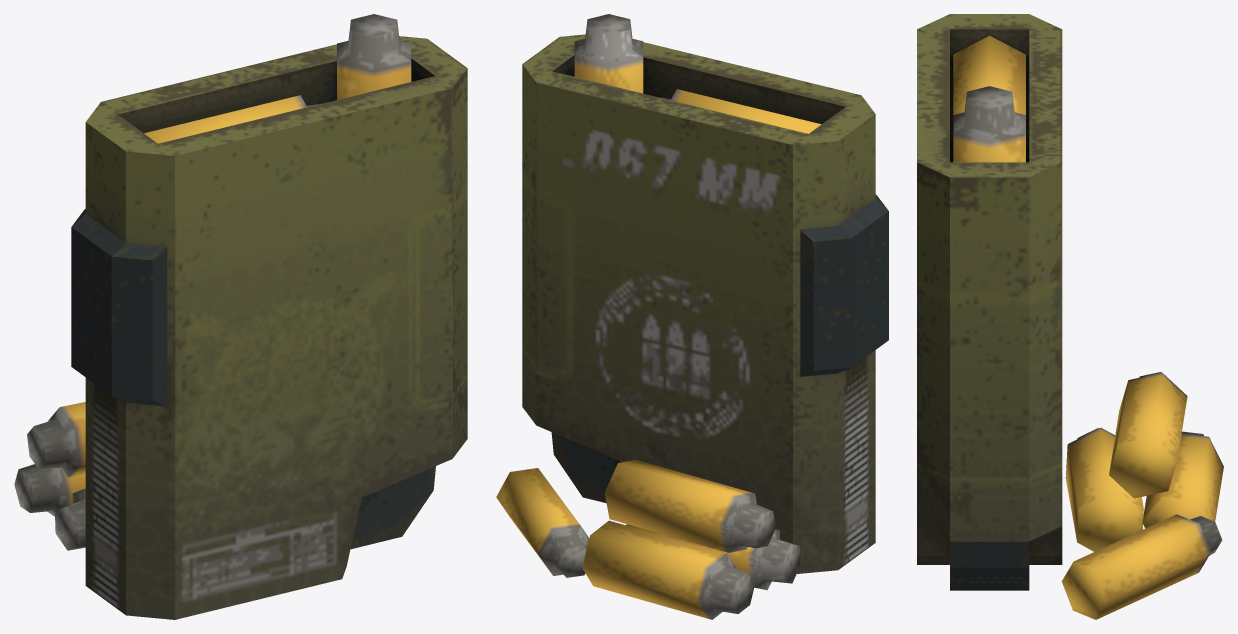
File: HANDGUN_AMMO.fbx
3 views of the same model, side by side, from view 1: azimuth 30°, elevation 25°; view 2: azimuth 150°, elevation 25°; view 3: azimuth 270°, elevation 25° (orthographic). The views are drawn at different scales.
Visible parts, largest first — view 1: SM_AMMO_01; view 2: SM_AMMO_01; view 3: SM_AMMO_01.
Boxes of the visible parts, x1,y1,x2,y2 form: SM_AMMO_01: [14, 14, 467, 619]; SM_AMMO_01: [496, 14, 888, 619]; SM_AMMO_01: [917, 14, 1223, 619].
Bounding box in the file's own units: 0.4578 × 0.6347 × 0.3483.
